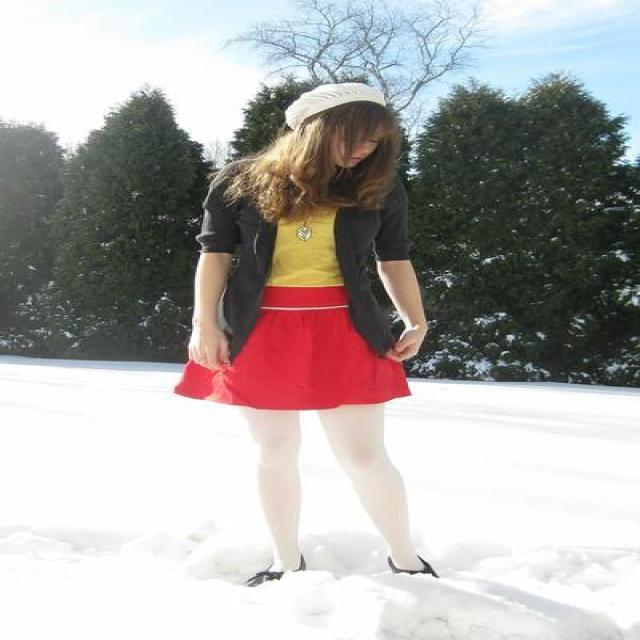hat: (285, 70, 397, 136)
jacket: (198, 194, 424, 357)
shirt: (266, 208, 342, 286)
shoe: (245, 550, 435, 586)
skirt: (187, 286, 410, 409)
